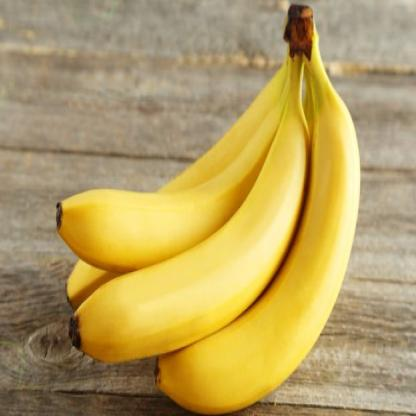banana: (68, 52, 311, 360), (154, 66, 365, 415), (62, 59, 290, 302), (55, 57, 303, 265)
